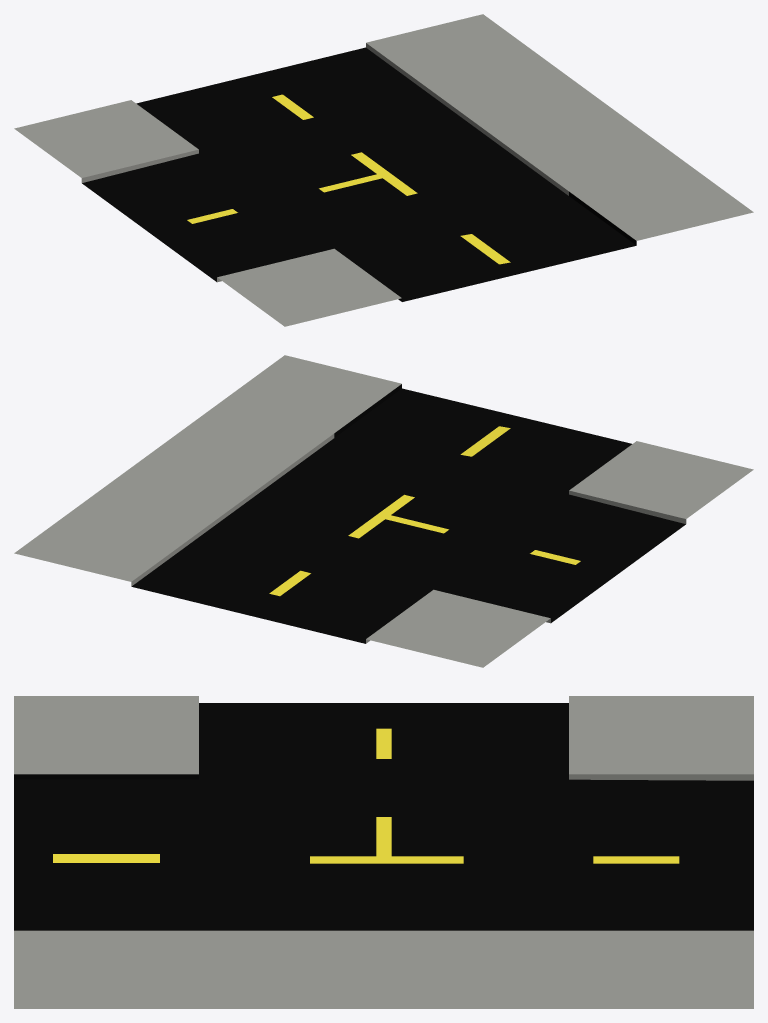
File: ruat.gltf
3 views of the same model, one above another, from view 1: azimuth 30°, elevation 25°; view 2: azimuth 150°, elevation 25°; view 3: azimuth 270°, elevation 25° (orthographic). The views are drawn at different scales.
Parts seen in each view (by area): view 1: ruax; view 2: ruax; view 3: ruax.
Part boxes in pixels (bbox=[...]): ruax: bbox=[14, 14, 753, 326]; ruax: bbox=[14, 355, 753, 667]; ruax: bbox=[14, 696, 753, 1008].
Size of the model in its own units: 8 by 0.0835 by 8.
1 material, 1 textured.
